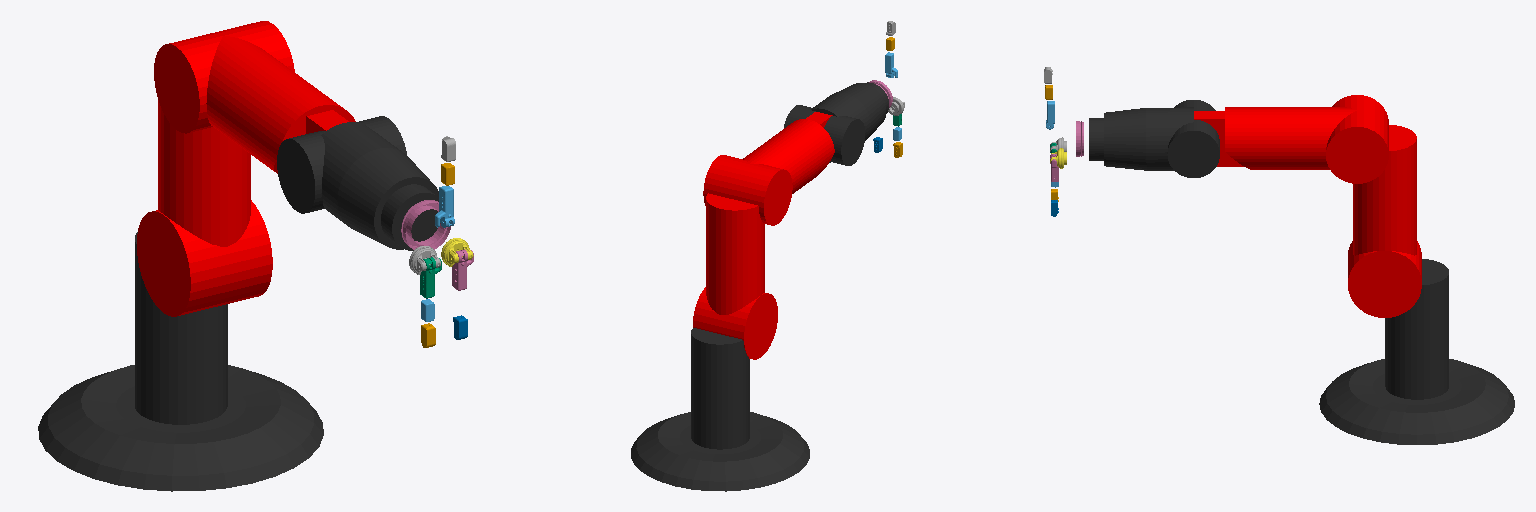
--- What the picture shows (computed from the rendered views, not written in the file) ---
Views: 3 orthographic renders of the robot side by side, from view 1: azimuth 30°, elevation 25°; view 2: azimuth 150°, elevation 25°; view 3: azimuth 270°, elevation 25°.
Robot: gripbot — 18 links, 17 joints (16 revolute, 1 fixed); root link dummy_link; default pose: every joint at zero.
Visible links, largest first — view 1: base_mount_link, base_column_link, girdle_visual_link, forearm_visual_link, arm_visual_link, base_wrist_link, finger_3_proximal_link, finger_1_proximal_link, finger_2_proximal_link, finger_2_base_link, finger_1_base_link; view 2: girdle_visual_link, base_column_link, base_mount_link, arm_visual_link, forearm_visual_link; view 3: base_column_link, base_mount_link, girdle_visual_link, arm_visual_link, forearm_visual_link.
Boxes of the visible links, x1,y1,x2,y2 form: base_mount_link: [38, 365, 323, 491]; base_column_link: [135, 200, 272, 424]; girdle_visual_link: [154, 21, 294, 308]; forearm_visual_link: [277, 116, 438, 250]; arm_visual_link: [202, 29, 355, 173]; base_wrist_link: [401, 200, 450, 249]; finger_3_proximal_link: [435, 186, 454, 227]; finger_1_proximal_link: [420, 257, 441, 298]; finger_2_proximal_link: [452, 249, 473, 290]; finger_2_base_link: [441, 238, 473, 266]; finger_1_base_link: [409, 246, 440, 274]; girdle_visual_link: [703, 155, 792, 335]; base_column_link: [691, 287, 777, 449]; base_mount_link: [631, 412, 809, 491]; arm_visual_link: [724, 112, 834, 201]; forearm_visual_link: [784, 82, 888, 165]; base_column_link: [1348, 241, 1448, 399]; base_mount_link: [1319, 359, 1514, 444]; girdle_visual_link: [1326, 95, 1421, 269]; arm_visual_link: [1194, 106, 1388, 169]; forearm_visual_link: [1089, 100, 1219, 177].
Size in the robot's own frame: 0.4737 by 1.14 by 0.8941 metres.
Meshes: 21 distinct files referenced, 19 mesh visuals loaded (19 binary STL); not drawn: 2 (reference not matched to a file when rendering).

The robot description file, URDF, robot "gripbot":
<?xml version="1.0"?>
<!-- created with Phobos 0.7 -->
<robot name="gripbot">

  <link name="dummy_link"/>

  <link name="arm_visual_link">
    <inertial>
      <origin xyz="0 0 0" rpy="0 0 0"/>
      <mass value="19.56717"/>
      <inertia ixx="0.503760" ixy="0" ixz="0" iyy="0.07578849" iyz="0" izz="0.50375514"/>
    </inertial>
    <visual name="arm_visual">
      <origin xyz="0 0 0" rpy="0 0 0"/>
      <geometry>
        <mesh filename="package://gripbot_description/meshes/stl/ID36.001.stl" scale="1.0 1.0 1.0"/>
      </geometry>
      <material name="Color_A05"/>
    </visual>
    <collision name="gripbot::arm_visual">
      <origin xyz="-0.00265 -0.19123 0.0002" rpy="0 0 0"/>
      <geometry>
        <box size="0.15244 0.53451 0.15245"/>
      </geometry>
    </collision>
    <collision name="gripbot::girdle_receptor_visual">
      <origin xyz="0 0 0" rpy="0 0 0"/>
      <geometry>
        <box size="0.18304 0.15204 0.15204"/>
      </geometry>
    </collision>
  </link>

  <link name="base_column_link">
    <inertial>
      <origin xyz="0 0 0" rpy="0 0 0"/>
      <mass value="33.204"/>
      <inertia ixx="0.17785" ixy="0" ixz="0" iyy="0.15673" iyz="0" izz="0.156739"/>
    </inertial>
    <visual name="base_column_receptor_visual">
      <origin xyz="0 -0.07833 0.30885" rpy="0 0 0"/>
      <geometry>
        <mesh filename="package://gripbot_description/meshes/stl/Circle.002.stl" scale="1.0 1.0 1.0"/>
      </geometry>
      <material name="Color_A05"/>
    </visual>
    <visual name="base_column_visual">
      <origin xyz="0 0 0" rpy="0 0 0"/>
      <geometry>
        <mesh filename="package://gripbot_description/meshes/stl/Circle.stl" scale="1.0 1.0 1.0"/>
      </geometry>
      <material name="Color_M07"/>
    </visual>
    <collision name="gripbot::base_column_mount_visual">
      <origin xyz="0 -0.07833 0.30885" rpy="0 0 0"/>
      <geometry>
        <box size="0.15655 0.17927 0.17927"/>
      </geometry>
    </collision>
    <collision name="gripbot::base_column_visual">
      <origin xyz="0 0 0.15275" rpy="0 0 0"/>
      <geometry>
        <box size="0.15423 0.15423 0.30549"/>
      </geometry>
    </collision>
  </link>

  <link name="base_mount_link">
    <inertial>
      <origin xyz="0 0 0" rpy="0 0 0"/>
      <mass value="240"/>
      <inertia ixx="2.4213" ixy="0" ixz="0" iyy="2.4213" iyz="0" izz="4.76351"/>
    </inertial>
    <visual name="base_mount_visual">
      <origin xyz="0 0 0" rpy="0 0 0"/>
      <geometry>
        <mesh filename="package://gripbot_description/meshes/stl/Circle.004.stl" scale="1.0 1.0 1.0"/>
      </geometry>
      <material name="Color_M07"/>
    </visual>
    <collision name="gripbot::base_mount_visual">
      <origin xyz="0 0 -0.01433" rpy="0 0 0"/>
      <geometry>
        <box size="0.4898 0.4898 0.0631"/>
      </geometry>
    </collision>
  </link>

  <link name="forearm_visual_link">
    <inertial>
      <origin xyz="0 0 0" rpy="0 0 0"/>
      <mass value="9.055067"/>
      <inertia ixx="0.067333" ixy="0" ixz="0" iyy="0.0673332" iyz="0" izz="0.028292"/>
    </inertial>
    <visual name="forearm_visual">
      <origin xyz="0 0 0" rpy="0 0 0"/>
      <geometry>
        <mesh filename="package://gripbot_description/meshes/stl/ID82.001.stl" scale="1.0 1.0 1.0"/>
      </geometry>
      <material name="Color_M07"/>
    </visual>
    <collision name="forearm_collision">
      <origin xyz="0 -0.1324 0" rpy="1.5708 0 0"/>
      <geometry>
        <cylinder radius="0.07905" length="0.26549"/>
      </geometry>
    </collision>
    <collision name="forearm_mount_collision">
      <origin xyz="0 0 0" rpy="1.5708 0 1.5708"/>
      <geometry>
        <cylinder radius="0.0665" length="0.17955"/>
      </geometry>
    </collision>
  </link>

  <link name="girdle_visual_link">
    <inertial>
      <origin xyz="0 0 0" rpy="0 0 0"/>
      <mass value="8.62636"/>
      <inertia ixx="0.085577" ixy="0" ixz="0" iyy="0.085577" iyz="0" izz="0.034199"/>
    </inertial>
    <visual name="girdle_mount_visual">
      <origin xyz="0 0 0" rpy="0 0 0"/>
      <geometry>
        <mesh filename="package://gripbot_description/meshes/stl/Circle.005.stl" scale="1.0 1.0 1.0"/>
      </geometry>
      <material name="Color_A05"/>
    </visual>
    <visual name="girdle_receptor_visual">
      <origin xyz="0 0 0" rpy="0 0 0"/>
      <geometry>
        <mesh filename="package://gripbot_description/meshes/stl/Circle.001.stl" scale="1.0 1.0 1.0"/>
      </geometry>
      <material name="Color_A05"/>
    </visual>
    <visual name="girdle_visual">
      <origin xyz="0 0 0" rpy="0 0 0"/>
      <geometry>
        <mesh filename="package://gripbot_description/meshes/stl/Circle.003.stl" scale="1.0 1.0 1.0"/>
      </geometry>
      <material name="Color_A05"/>
    </visual>
    <collision name="gripbot::girdle_visual">
      <origin xyz="0 0 0.19929" rpy="0 0 0"/>
      <geometry>
        <box size="0.15423 0.15423 0.30864"/>
      </geometry>
    </collision>
  </link>


  <link name="base_wrist_link">
    <inertial>
      <origin xyz="0 0 0" rpy="0 0 0"/>
      <mass value="3.6"/>
      <inertia ixx="0.01" ixy="0" ixz="0" iyy="0.01" iyz="0" izz="0.01"/>
    </inertial>
    <visual name="base_link_socket_visual">
      <origin xyz="-0.00011 -0.00716 4e-05" rpy="0 0 0"/>
      <geometry>
        <mesh filename="package://gripbot_description/meshes/stl/Palm.001.stl" scale="1.0 1.0 1.0"/>
      </geometry>
    </visual>
    <visual name="base_link_visual">
      <origin xyz="-0.00011 -0.00716 4e-05" rpy="0 0 0"/>
      <geometry>
        <mesh filename="package://gripbot_description/meshes/stl/Palm.stl" scale="1.0 1.0 1.0"/>
      </geometry>
    </visual>
    <collision name="base_link_collision">
      <origin xyz="-0.00011 -0.00716 4e-05" rpy="0 0 0"/>
      <geometry>
        <box size="0.1135 0.07446 0.07319"/>
      </geometry>
    </collision>
    <collision name="base_link_collision_1">
      <origin xyz="-0.00011 -0.04313 0.01634" rpy="-1.5708 0 0"/>
      <geometry>
        <cylinder radius="0.04771" length="0.074303"/>
      </geometry>
    </collision>
  </link>

  <link name="finger_1_base_link">
    <inertial>
      <origin xyz="0 0 0" rpy="0 0 0"/>
      <mass value="0.01308"/>
      <inertia ixx="0.00000165" ixy="0" ixz="0" iyy="0.00000165" iyz="0" izz="0.00000067"/>
    </inertial>
    <visual name="finger_1_base_visual">
      <origin xyz="0 0 0" rpy="0 0 0"/>
      <geometry>
        <mesh filename="package://gripbot_description/meshes/stl/FingerBase.stl" scale="1.0 1.0 1.0"/>
      </geometry>
    </visual>
    <collision name="finger_2_base_collision">
      <origin xyz="0 0 0" rpy="-1.5708 0 1.5708"/>
      <geometry>
        <cylinder radius="0.010094" length="0.034775"/>
      </geometry>
    </collision>
  </link>

  <link name="finger_1_distal_link">
    <inertial>
      <origin xyz="0 0 0" rpy="0 0 0"/>
      <mass value="0.01681805"/>
      <inertia ixx="0.00000286" ixy="0" ixz="0" iyy="0.00000272" iyz="0" izz="0.00000100"/>
    </inertial>
    <visual name="finger_1_distal_visual">
      <origin xyz="0 0 0" rpy="0 0 0"/>
      <geometry>
        <mesh filename="package://gripbot_description/meshes/stl/FingerDistal.001.stl" scale="1.0 1.0 1.0"/>
      </geometry>
    </visual>
    <collision name="finger_1_distal_collision">
      <origin xyz="0 -0.00197 -0.029" rpy="0 0 0"/>
      <geometry>
        <box size="0.0175 0.02023 0.04043"/>
      </geometry>
    </collision>
  </link>

  <link name="finger_1_mid_link">
    <inertial>
      <origin xyz="0 0 0" rpy="0 0 0"/>
      <mass value="0.01317208"/>
      <inertia ixx="0.00000160" ixy="0" ixz="0" iyy="0.00000155" iyz="0" izz="0.00000075"/>
    </inertial>
    <visual name="finger_1_mid_visual">
      <origin xyz="0 0 0" rpy="0 0 0"/>
      <geometry>
        <mesh filename="package://gripbot_description/meshes/stl/FingerMid.001.stl" scale="1.0 1.0 1.0"/>
      </geometry>
    </visual>
    <collision name="finger_1_mid_collision">
      <origin xyz="0 -0.00096 -0.02551" rpy="0 0 0"/>
      <geometry>
        <box size="0.01784 0.01899 0.03309"/>
      </geometry>
    </collision>
  </link>

  <link name="finger_1_proximal_link">
    <inertial>
      <origin xyz="0 0 0" rpy="0 0 0"/>
      <mass value="0.01907932"/>
      <inertia ixx="0.00000493" ixy="0" ixz="0" iyy="0.00000493" iyz="0" izz="0.00000098"/>
    </inertial>
    <visual name="finger_1_proximal_visual">
      <origin xyz="0 0 0" rpy="0 0 0"/>
      <geometry>
        <mesh filename="package://gripbot_description/meshes/stl/FingerProximal.001.stl" scale="1.0 1.0 1.0"/>
      </geometry>
    </visual>
    <collision name="finger_1_proximal_collision">
      <origin xyz="0 0 -0.03" rpy="0 0 0"/>
      <geometry>
        <box size="0.01754 0.01751 0.05287"/>
      </geometry>
    </collision>
  </link>

  <link name="finger_2_base_link">
    <inertial>
      <origin xyz="0 0 0" rpy="0 0 0"/>
      <mass value="0.01308"/>
      <inertia ixx="0.00000165" ixy="0" ixz="0" iyy="0.00000165" iyz="0" izz="0.00000067"/>
    </inertial>
    <visual name="finger_2_base_visual">
      <origin xyz="0 0 0" rpy="-1.5708 0 1.5708"/>
      <geometry>
        <mesh filename="package://gripbot_description/meshes/stl/FingerBase.001.stl" scale="1.0 1.0 1.0"/>
      </geometry>
    </visual>
    <collision name="finger_2_base_collision">
      <origin xyz="0 0 0" rpy="-1.5708 0 1.5708"/>
      <geometry>
        <cylinder radius="0.010094" length="0.034775"/>
      </geometry>
    </collision>
  </link>

  <link name="finger_2_distal_link">
    <inertial>
      <origin xyz="0 0 0" rpy="0 0 0"/>
      <mass value="0.01681805"/>
      <inertia ixx="0.00000286" ixy="0" ixz="0" iyy="0.00000272" iyz="0" izz="0.00000100"/>
    </inertial>
    <visual name="finger_2_distal_visual">
      <origin xyz="0 0 0" rpy="0 0 0"/>
      <geometry>
        <mesh filename="package://gripbot_description/meshes/stl/FingerDistal.stl" scale="1.0 1.0 1.0"/>
      </geometry>
    </visual>
    <collision name="finger_2_distal_collision">
      <origin xyz="0 -0.00197 -0.02913" rpy="0 0 0"/>
      <geometry>
        <box size="0.0175 0.02023 0.04043"/>
      </geometry>
    </collision>
  </link>

  <link name="finger_2_mid_link">
    <inertial>
      <origin xyz="0 0 0" rpy="0 0 0"/>
      <mass value="0.01317208"/>
      <inertia ixx="0.00000160" ixy="0" ixz="0" iyy="0.00000155" iyz="0" izz="0.00000075"/>
    </inertial>
    <visual name="finger_2_mid_visual">
      <origin xyz="0 0 0" rpy="0 0 0"/>
      <geometry>
        <mesh filename="package://gripbot_description/meshes/stl/FingerMid.002.stl" scale="1.0 1.0 1.0"/>
      </geometry>
    </visual>
    <collision name="finger_2_mid_collision">
      <origin xyz="0 0 -0.02551" rpy="0 0 0"/>
      <geometry>
        <box size="0.01784 0.01899 0.03281"/>
      </geometry>
    </collision>
  </link>

  <link name="finger_2_proximal_link">
    <inertial>
      <origin xyz="0 0 0" rpy="0 0 0"/>
      <mass value="0.01907932"/>
      <inertia ixx="0.00000493" ixy="0" ixz="0" iyy="0.00000493" iyz="0" izz="0.00000098"/>
    </inertial>
    <visual name="finger_2_proximal_visual">
      <origin xyz="0 0 0" rpy="0 0 0"/>
      <geometry>
        <mesh filename="package://gripbot_description/meshes/stl/FingerProximal.stl" scale="1.0 1.0 1.0"/>
      </geometry>
    </visual>
    <collision name="finger_2_proximal_collision">
      <origin xyz="0 0 -0.03" rpy="0 0 0"/>
      <geometry>
        <box size="0.01754 0.01751 0.05287"/>
      </geometry>
    </collision>
  </link>

  <link name="finger_3_distal_link">
    <inertial>
      <origin xyz="0 0 0" rpy="0 0 0"/>
      <mass value="0.01681805"/>
      <inertia ixx="0.00000286" ixy="0" ixz="0" iyy="0.00000272" iyz="0" izz="0.00000100"/>
    </inertial>
    <visual name="finger_3_distal_visual">
      <origin xyz="0 0 0" rpy="0 0 0"/>
      <geometry>
        <mesh filename="package://gripbot_description/meshes/stl/FingerDistal.003.stl" scale="1.0 1.0 1.0"/>
      </geometry>
    </visual>
    <collision name="finger_3_distal_collision">
      <origin xyz="0 -0.00197 0.02913" rpy="0 0 0"/>
      <geometry>
        <box size="0.0175 0.02023 0.04043"/>
      </geometry>
    </collision>
  </link>

  <link name="finger_3_mid_link">
    <inertial>
      <origin xyz="0 0 0" rpy="0 0 0"/>
      <mass value="0.01317208"/>
      <inertia ixx="0.00000160" ixy="0" ixz="0" iyy="0.00000155" iyz="0" izz="0.00000075"/>
    </inertial>
    <visual name="finger_3_mid_visual">
      <origin xyz="0 0 0" rpy="0 0 0"/>
      <geometry>
        <mesh filename="package://gripbot_description/meshes/stl/FingerMid.003.stl" scale="1.0 1.0 1.0"/>
      </geometry>
    </visual>
    <collision name="finger_3_mid_collision">
      <origin xyz="0 -0.00096 0.02551" rpy="0 0 0"/>
      <geometry>
        <box size="0.01784 0.01899 0.03281"/>
      </geometry>
    </collision>
  </link>

  <link name="finger_3_proximal_link">
    <inertial>
      <origin xyz="0 0 0" rpy="0 0 0"/>
      <mass value="0.01907932"/>
      <inertia ixx="0.00000493" ixy="0" ixz="0" iyy="0.00000493" iyz="0" izz="0.00000098"/>
    </inertial>
    <visual name="finger_3_proximal_visual">
      <origin xyz="0 0 0" rpy="0 0 0"/>
      <geometry>
        <mesh filename="package://gripbot_description/meshes/stl/FingerProximal.003.stl" scale="1.0 1.0 1.0"/>
      </geometry>
    </visual>
    <collision name="finger_3_base_collision">
      <origin xyz="0 0 0" rpy="0 0 0"/>
      <geometry>
        <box size="0.03477 0.02019 0.02019"/>
      </geometry>
    </collision>
    <collision name="finger_3_proximal">
      <origin xyz="0.0 0.0 0.0275" rpy="0 0 0"/>
      <geometry>
        <box size="0.01755 0.01858 0.05311"/>
      </geometry>
    </collision>
  </link>


  <joint name = "dummy_joint" type="fixed">
    <parent link = "dummy_link"/>
    <child link = "base_mount_link"/>
  </joint>

  <joint name="arm_visual_link" type="revolute">
    <origin xyz="0 -0.06624 0.34976" rpy="0 0 0"/>
    <parent link="girdle_visual_link"/>
    <child link="arm_visual_link"/>
    <axis xyz="1.0 0 0"/>
    <limit lower="-1.5708" upper="0.59341" effort="135.0" velocity="1.0"/>
  </joint>

  <joint name="base_column_link" type="revolute">
    <origin xyz="0 0 0" rpy="0 0 0"/>
    <parent link="base_mount_link"/>
    <child link="base_column_link"/>
    <axis xyz="0 0 1.0"/>
    <limit lower="-3.14159" upper="3.14159" effort="135.0" velocity="1.0"/>
  </joint>

  <joint name="base_wrist_link" type="revolute">
    <origin xyz="0 -0.2659 0" rpy="0 0 0"/>
    <parent link="forearm_visual_link"/>
    <child link="base_wrist_link"/>
    <axis xyz="0 -1.0 0"/>
    <limit lower="-1.5708" upper="1.5708" effort="10000.0" velocity="1.0"/>
  </joint>

  <joint name="finger_1_base_link" type="revolute">
    <origin xyz="-0.03075 -0.07079 -0.03799" rpy="0 0 0"/>
    <parent link="base_wrist_link"/>
    <child link="finger_1_base_link"/>
    <axis xyz="0 -1.0 0"/>
    <limit lower="-2.04204" upper="0.7854" effort="10000.0" velocity="1.0"/>
  </joint>

  <joint name="finger_1_distal_link" type="revolute">
    <origin xyz="0 -0.00041 -0.04213" rpy="0 0 0"/>
    <parent link="finger_1_mid_link"/>
    <child link="finger_1_distal_link"/>
    <axis xyz="-1.0 0 0"/>
    <limit lower="0" upper="1.5708" effort="10000.0" velocity="1.0"/>
  </joint>

  <joint name="finger_1_mid_link" type="revolute">
    <origin xyz="0 0.00425 -0.06051" rpy="0 0 0"/>
    <parent link="finger_1_proximal_link"/>
    <child link="finger_1_mid_link"/>
    <axis xyz="-1.0 0 0"/>
    <limit lower="0" upper="1.5708" effort="10000.0" velocity="1.0"/>
  </joint>

  <joint name="finger_1_proximal_link" type="revolute">
    <origin xyz="0 0 0" rpy="0 0 0"/>
    <parent link="finger_1_base_link"/>
    <child link="finger_1_proximal_link"/>
    <axis xyz="-1.0 0 0"/>
    <limit lower="0" upper="1.5708" effort="10000.0" velocity="1.0"/>
  </joint>

   <joint name="finger_2_base_link" type="revolute">
    <origin xyz="0.03075 -0.07079 -0.03799" rpy="0 0 0"/>
    <parent link="base_wrist_link"/>
    <child link="finger_2_base_link"/>
    <axis xyz="0 -1.0 0"/>
    <limit lower="-0.7854" upper="2.04204" effort="10000.0" velocity="1.0"/>
  </joint>

  <joint name="finger_2_distal_link" type="revolute">
    <origin xyz="0 -0.00041 -0.04199" rpy="0 0 0"/>
    <parent link="finger_2_mid_link"/>
    <child link="finger_2_distal_link"/>
    <axis xyz="1.0 0 0"/>
    <limit lower="-1.5708" upper="0" effort="10000.0" velocity="1.0"/>
  </joint>

  <joint name="finger_2_mid_link" type="revolute">
    <origin xyz="0 0.00425 -0.06051" rpy="0 0 0"/>
    <parent link="finger_2_proximal_link"/>
    <child link="finger_2_mid_link"/>
    <axis xyz="1.0 0 0"/>
    <limit lower="-1.5708" upper="0" effort="10000.0" velocity="1.0"/>
  </joint>

  <joint name="finger_2_proximal_link" type="revolute">
    <origin xyz="0 0 0" rpy="0 0 0"/>
    <parent link="finger_2_base_link"/>
    <child link="finger_2_proximal_link"/>
    <axis xyz="1.0 0 0"/>
    <limit lower="-1.5708" upper="0" effort="10000.0" velocity="1.0"/>
  </joint>

  <joint name="finger_3_distal_link" type="revolute">
    <origin xyz="0 -0.00041 0.04199" rpy="0 0 0"/>
    <parent link="finger_3_mid_link"/>
    <child link="finger_3_distal_link"/>
    <axis xyz="1.0 0 0"/>
    <limit lower="0" upper="1.72788" effort="10000.0" velocity="1.0"/>
  </joint>

  <joint name="finger_3_mid_link" type="revolute">
    <origin xyz="0 -0.00041 0.06051" rpy="0 0 0"/>
    <parent link="finger_3_proximal_link"/>
    <child link="finger_3_mid_link"/>
    <axis xyz="1.0 0 0"/>
    <limit lower="0" upper="1.72788" effort="10000.0" velocity="1.0"/>
  </joint>

  <joint name="finger_3_proximal_link" type="revolute">
    <origin xyz="-0.00025 -0.0808 0.03801" rpy="0 0 0"/>
    <parent link="base_wrist_link"/>
    <child link="finger_3_proximal_link"/>
    <axis xyz="1.0 0 0"/>
    <limit lower="-0.7854" upper="1.72788" effort="10000.0" velocity="1.0"/>
  </joint>

  <joint name="forearm_visual_link" type="revolute">
    <origin xyz="-0.00268 -0.39555 -0.0001" rpy="0 0 0"/>
    <parent link="arm_visual_link"/>
    <child link="forearm_visual_link"/>
    <axis xyz="1.0 0 0"/>
    <limit lower="-1.5708" upper="2.18166" effort="135.0" velocity="1.0"/>
  </joint>

  <joint name="girdle_visual_link" type="revolute">
    <origin xyz="0 -0.07833 0.30885" rpy="0 0 0"/>
    <parent link="base_column_link"/>
    <child link="girdle_visual_link"/>
    <axis xyz="1.0 0 0"/>
    <limit lower="-0.5236" upper="1.95477" effort="50000.0" velocity="1.0"/>
  </joint>

  <!-- ros_control plugin -->
  <gazebo>
    <plugin name="gazebo_ros_control" filename="libgazebo_ros_control.so">
      <robotNamespace>/gripbot</robotNamespace>
      <robotSimType>gazebo_ros_control/DefaultRobotHWSim</robotSimType>
      <legacyModeNS>true</legacyModeNS>
    </plugin>
  </gazebo>

  <material name="Color_A05">
    <color rgba="1.0 0 0 1.0"/>
  </material>

  <material name="Color_M07">
    <color rgba="0.22745 0.22745 0.22745 1.0"/>
  </material>

  <transmission name="trans_arm_visual_link">
    <type>transmission_interface/SimpleTransmission</type>
    <joint name="arm_visual_link">
      <hardwareInterface>hardware_interface/EffortJointInterface</hardwareInterface>
    </joint>
    <actuator name="arm_visual_link_motor">
      <hardwareInterface>hardware_interface/EffortJointInterface</hardwareInterface>
      <mechanicalReduction>1</mechanicalReduction>
    </actuator>
  </transmission>
  <transmission name="trans_base_column_link">
    <type>transmission_interface/SimpleTransmission</type>
    <joint name="base_column_link">
      <hardwareInterface>hardware_interface/EffortJointInterface</hardwareInterface>
    </joint>
    <actuator name="base_column_link_motor">
      <hardwareInterface>hardware_interface/EffortJointInterface</hardwareInterface>
      <mechanicalReduction>1</mechanicalReduction>
    </actuator>
  </transmission>
  <transmission name="trans_base_wrist_link">
    <type>transmission_interface/SimpleTransmission</type>
    <joint name="base_wrist_link">
      <hardwareInterface>hardware_interface/EffortJointInterface</hardwareInterface>
    </joint>
    <actuator name="base_wrist_link_motor">
      <hardwareInterface>hardware_interface/EffortJointInterface</hardwareInterface>
      <mechanicalReduction>1</mechanicalReduction>
    </actuator>
  </transmission>
  <transmission name="trans_finger_1_base_link">
    <type>transmission_interface/SimpleTransmission</type>
    <joint name="finger_1_base_link">
      <hardwareInterface>hardware_interface/EffortJointInterface</hardwareInterface>
    </joint>
    <actuator name="finger_1_base_link_motor">
      <hardwareInterface>hardware_interface/EffortJointInterface</hardwareInterface>
      <mechanicalReduction>1</mechanicalReduction>
    </actuator>
  </transmission>
  <transmission name="trans_finger_1_distal_link">
    <type>transmission_interface/SimpleTransmission</type>
    <joint name="finger_1_distal_link">
      <hardwareInterface>hardware_interface/EffortJointInterface</hardwareInterface>
    </joint>
    <actuator name="finger_1_distal_link_motor">
      <hardwareInterface>hardware_interface/EffortJointInterface</hardwareInterface>
      <mechanicalReduction>1</mechanicalReduction>
    </actuator>
  </transmission>
  <transmission name="trans_finger_1_mid_link">
    <type>transmission_interface/SimpleTransmission</type>
    <joint name="finger_1_mid_link">
      <hardwareInterface>hardware_interface/EffortJointInterface</hardwareInterface>
    </joint>
    <actuator name="finger_1_mid_link_motor">
      <hardwareInterface>hardware_interface/EffortJointInterface</hardwareInterface>
      <mechanicalReduction>1</mechanicalReduction>
    </actuator>
  </transmission>
  <transmission name="trans_finger_1_proximal_link">
    <type>transmission_interface/SimpleTransmission</type>
    <joint name="finger_1_proximal_link">
      <hardwareInterface>hardware_interface/EffortJointInterface</hardwareInterface>
    </joint>
    <actuator name="finger_1_proximal_link_motor">
      <hardwareInterface>hardware_interface/EffortJointInterface</hardwareInterface>
      <mechanicalReduction>1</mechanicalReduction>
    </actuator>
  </transmission>
  <transmission name="trans_finger_2_base_link">
    <type>transmission_interface/SimpleTransmission</type>
    <joint name="finger_2_base_link">
      <hardwareInterface>hardware_interface/EffortJointInterface</hardwareInterface>
    </joint>
    <actuator name="finger_2_base_link_motor">
      <hardwareInterface>hardware_interface/EffortJointInterface</hardwareInterface>
      <mechanicalReduction>1</mechanicalReduction>
    </actuator>
  </transmission>
  <transmission name="trans_finger_2_distal_link">
    <type>transmission_interface/SimpleTransmission</type>
    <joint name="finger_2_distal_link">
      <hardwareInterface>hardware_interface/EffortJointInterface</hardwareInterface>
    </joint>
    <actuator name="finger_2_distal_link_motor">
      <hardwareInterface>hardware_interface/EffortJointInterface</hardwareInterface>
      <mechanicalReduction>1</mechanicalReduction>
    </actuator>
  </transmission>
  <transmission name="trans_finger_2_mid_link">
    <type>transmission_interface/SimpleTransmission</type>
    <joint name="finger_2_mid_link">
      <hardwareInterface>hardware_interface/EffortJointInterface</hardwareInterface>
    </joint>
    <actuator name="finger_2_mid_link_motor">
      <hardwareInterface>hardware_interface/EffortJointInterface</hardwareInterface>
      <mechanicalReduction>1</mechanicalReduction>
    </actuator>
  </transmission>
  <transmission name="trans_finger_2_proximal_link">
    <type>transmission_interface/SimpleTransmission</type>
    <joint name="finger_2_proximal_link">
      <hardwareInterface>hardware_interface/EffortJointInterface</hardwareInterface>
    </joint>
    <actuator name="finger_2_proximal_link_motor">
      <hardwareInterface>hardware_interface/EffortJointInterface</hardwareInterface>
      <mechanicalReduction>1</mechanicalReduction>
    </actuator>
  </transmission>
  <transmission name="trans_finger_3_distal_link">
    <type>transmission_interface/SimpleTransmission</type>
    <joint name="finger_3_distal_link">
      <hardwareInterface>hardware_interface/EffortJointInterface</hardwareInterface>
    </joint>
    <actuator name="finger_3_distal_link_motor">
      <hardwareInterface>hardware_interface/EffortJointInterface</hardwareInterface>
      <mechanicalReduction>1</mechanicalReduction>
    </actuator>
  </transmission>
  <transmission name="trans_finger_3_mid_link">
    <type>transmission_interface/SimpleTransmission</type>
    <joint name="finger_3_mid_link">
      <hardwareInterface>hardware_interface/EffortJointInterface</hardwareInterface>
    </joint>
    <actuator name="finger_3_mid_link_motor">
      <hardwareInterface>hardware_interface/EffortJointInterface</hardwareInterface>
      <mechanicalReduction>1</mechanicalReduction>
    </actuator>
  </transmission>
  <transmission name="trans_finger_3_proximal_link">
    <type>transmission_interface/SimpleTransmission</type>
    <joint name="finger_3_proximal_link">
      <hardwareInterface>hardware_interface/EffortJointInterface</hardwareInterface>
    </joint>
    <actuator name="finger_3_proximal_link_motor">
      <hardwareInterface>hardware_interface/EffortJointInterface</hardwareInterface>
      <mechanicalReduction>1</mechanicalReduction>
    </actuator>
  </transmission>
  <transmission name="trans_forearm_visual_link">
    <type>transmission_interface/SimpleTransmission</type>
    <joint name="forearm_visual_link">
      <hardwareInterface>hardware_interface/EffortJointInterface</hardwareInterface>
    </joint>
    <actuator name="forearm_visual_link_motor">
      <hardwareInterface>hardware_interface/EffortJointInterface</hardwareInterface>
      <mechanicalReduction>1</mechanicalReduction>
    </actuator>
  </transmission>
  <transmission name="trans_girdle_visual_link">
    <type>transmission_interface/SimpleTransmission</type>
    <joint name="girdle_visual_link">
      <hardwareInterface>hardware_interface/EffortJointInterface</hardwareInterface>
    </joint>
    <actuator name="girdle_visual_link_motor">
      <hardwareInterface>hardware_interface/EffortJointInterface</hardwareInterface>
      <mechanicalReduction>1</mechanicalReduction>
    </actuator>
  </transmission>

  <!-- girdle_visual_link transmission interface -->

  <gazebo reference="base_mount_link">
    <turnGravityOff>true</turnGravityOff>
  </gazebo>
  
  <gazebo reference="dummy_link">
    <mu1 value="500.0"/>
    <kp value="1000.00"/>
    <kd value="10.0"/>
    <turnGravityOff>true</turnGravityOff>
  </gazebo>
  <gazebo reference="arm_visual_link">
    <mu1 value="500.0"/>
    <kp value="1000.00"/>
    <kd value="10.0"/>
    <turnGravityOff>true</turnGravityOff>
  </gazebo>
  <gazebo reference="base_column_link">
    <mu1 value="500.0"/>
    <kp value="1000.00"/>
    <kd value="10.0"/>
    <turnGravityOff>true</turnGravityOff>
  </gazebo>
  <gazebo reference="base_mount_link">
    <mu1 value="500.0"/>
    <kp value="1000.00"/>
    <kd value="10.0"/>
    <turnGravityOff>false</turnGravityOff>
  </gazebo>
  <gazebo reference="base_wrist_link">
    <mu1 value="500.0"/>
    <kp value="1000.00"/>
    <kd value="10.0"/>
    <turnGravityOff>true</turnGravityOff>
  </gazebo>
  <gazebo reference="finger_1_base_link">
    <mu1 value="500.0"/>
    <kp value="1000.00"/>
    <kd value="10.0"/>
    <turnGravityOff>true</turnGravityOff>   
  </gazebo>
  <gazebo reference="finger_1_distal_link">
    <mu1 value="500.0"/>
    <kp value="1000.00"/>
    <kd value="10.0"/>
    <turnGravityOff>true</turnGravityOff>   
  </gazebo>
  <gazebo reference="finger_1_mid_link">
    <mu1 value="500.0"/>
    <kp value="1000.00"/>
    <kd value="10.0"/>
    <turnGravityOff>true</turnGravityOff>   
  </gazebo>
  <gazebo reference="finger_1_proximal_link">
    <mu1 value="500.0"/>
    <kp value="1000.00"/>
    <kd value="10.0"/>
    <turnGravityOff>true</turnGravityOff>   
  </gazebo>

   <gazebo reference="finger_2_base_link">
    <mu1 value="500.0"/>
    <kp value="1000.00"/>
    <kd value="10.0"/>
    <turnGravityOff>true</turnGravityOff>   
  </gazebo>
  <gazebo reference="finger_2_distal_link">
    <mu1 value="500.0"/>
    <kp value="1000.00"/>
    <kd value="10.0"/>
    <turnGravityOff>true</turnGravityOff>   
  </gazebo>
  <gazebo reference="finger_2_mid_link">
    <mu1 value="500.0"/>
    <kp value="1000.00"/>
    <kd value="10.0"/>
    <turnGravityOff>true</turnGravityOff>   
  </gazebo>
  <gazebo reference="finger_2_proximal_link">
    <mu1 value="500.0"/>
    <kp value="1000.00"/>
    <kd value="10.0"/>
    <turnGravityOff>true</turnGravityOff>   
  </gazebo>

 <gazebo reference="finger_3_base_link">
    <mu1 value="500.0"/>
    <kp value="1000.00"/>
    <kd value="10.0"/>
    <turnGravityOff>true</turnGravityOff>   
  </gazebo>
  <gazebo reference="finger_3_distal_link">
    <mu1 value="500.0"/>
    <kp value="1000.00"/>
    <kd value="10.0"/>
    <turnGravityOff>true</turnGravityOff>   
  </gazebo>
  <gazebo reference="finger_3_mid_link">
    <mu1 value="500.0"/>
    <kp value="1000.00"/>
    <kd value="10.0"/>
    <turnGravityOff>true</turnGravityOff>   
  </gazebo>
  <gazebo reference="finger_3_proximal_link">
    <mu1 value="500.0"/>
    <kp value="1000.00"/>
    <kd value="10.0"/>
    <turnGravityOff>true</turnGravityOff>   
  </gazebo>


  <gazebo reference="forearm_visual_link">
    <mu1 value="500.0"/>
    <kp value="1000.00"/>
    <kd value="10.0"/>
    <turnGravityOff>true</turnGravityOff>   
  </gazebo>
  <gazebo reference="girdle_visual_link">
    <mu1 value="500.0"/>
    <kp value="1000.00"/>
    <kd value="10.0"/>
    <turnGravityOff>true</turnGravityOff>   
  </gazebo>

</robot>
